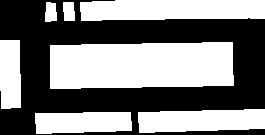parkingspot: (50, 42, 232, 68), (50, 64, 233, 88), (80, 0, 265, 20), (138, 109, 265, 132), (35, 112, 131, 133), (0, 40, 20, 108), (45, 2, 56, 21), (63, 2, 74, 20)
